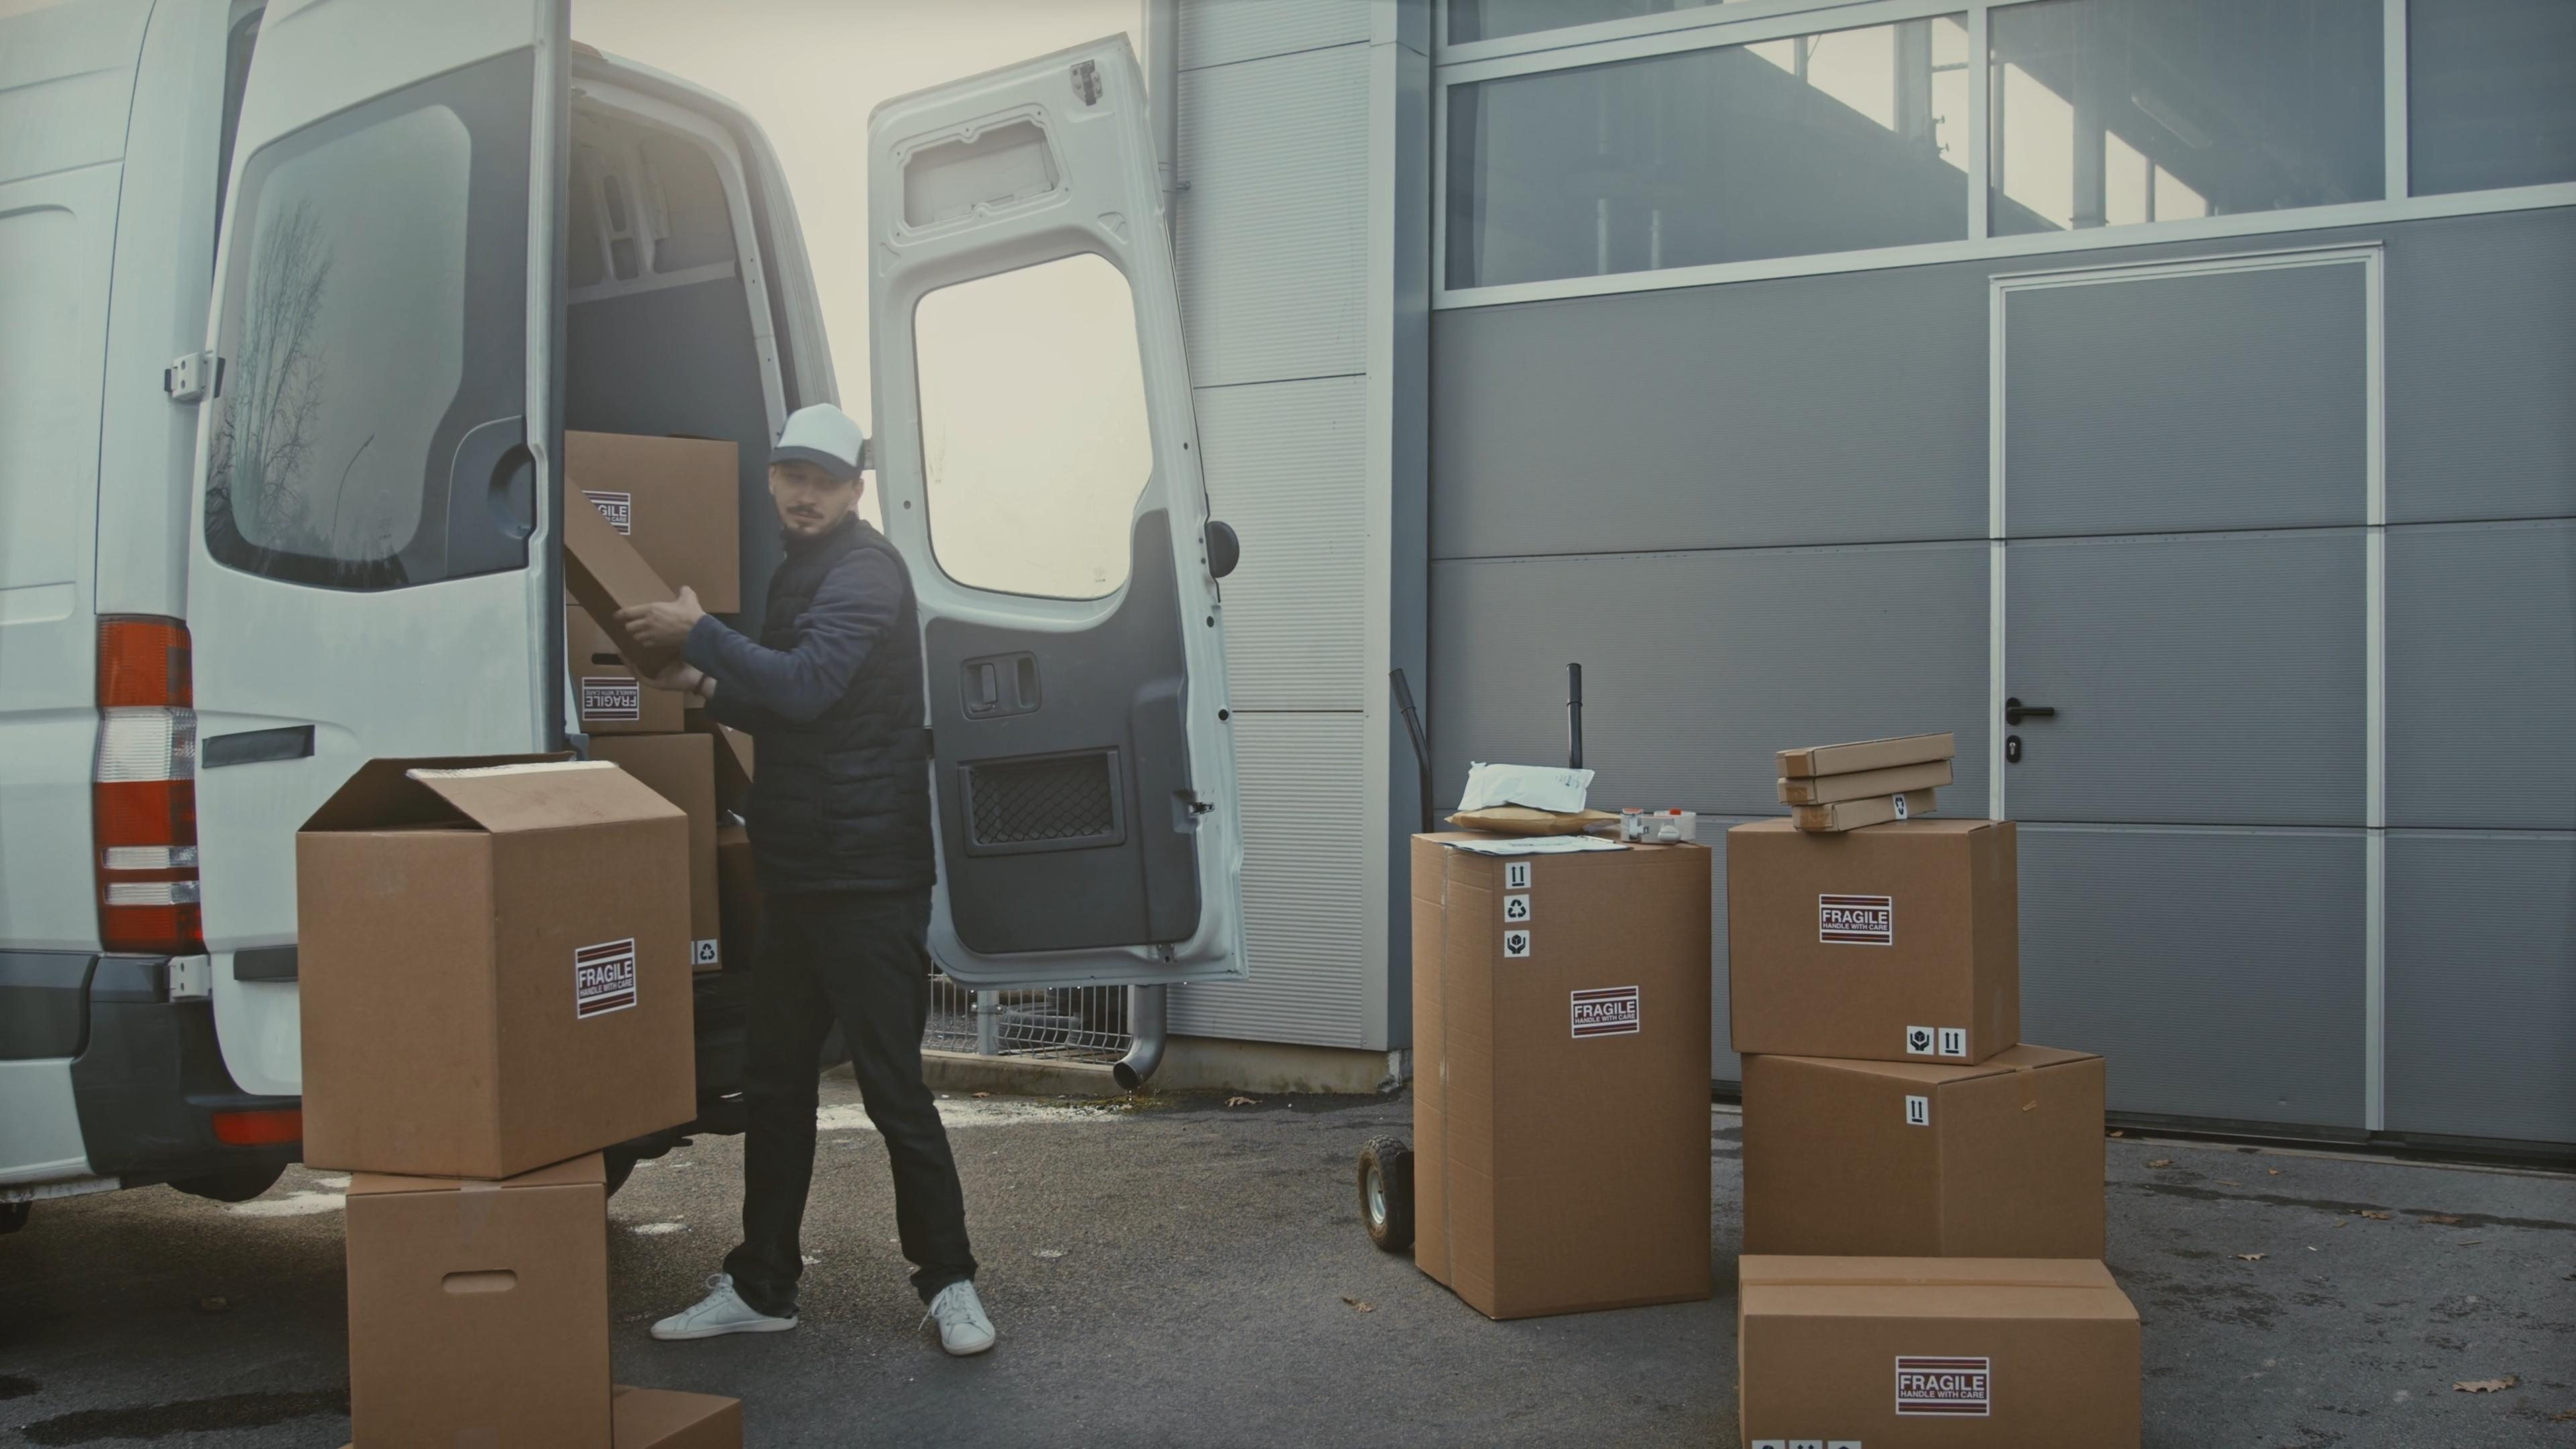-: (287, 752, 699, 1178), (1424, 805, 1716, 1334), (1741, 1231, 2148, 1449), (1716, 810, 2012, 1085), (343, 1161, 600, 1449), (1748, 1044, 2081, 1249), (557, 426, 743, 610), (550, 479, 697, 669), (1759, 729, 1955, 775), (1766, 763, 1957, 805), (1767, 787, 1939, 830), (2374, 1375, 2381, 1396)
